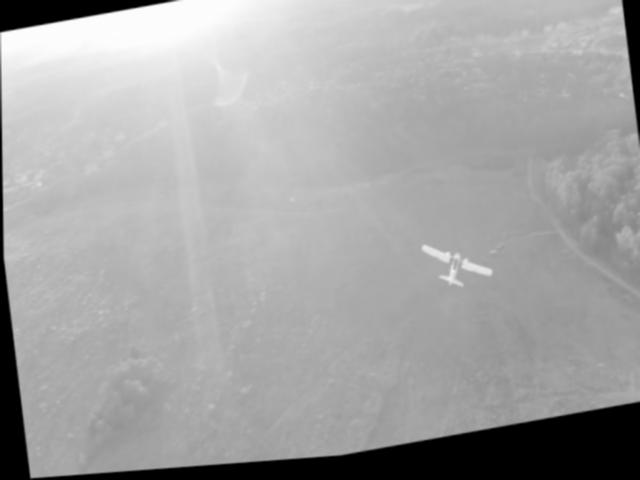hedef: (414, 233, 500, 316)
